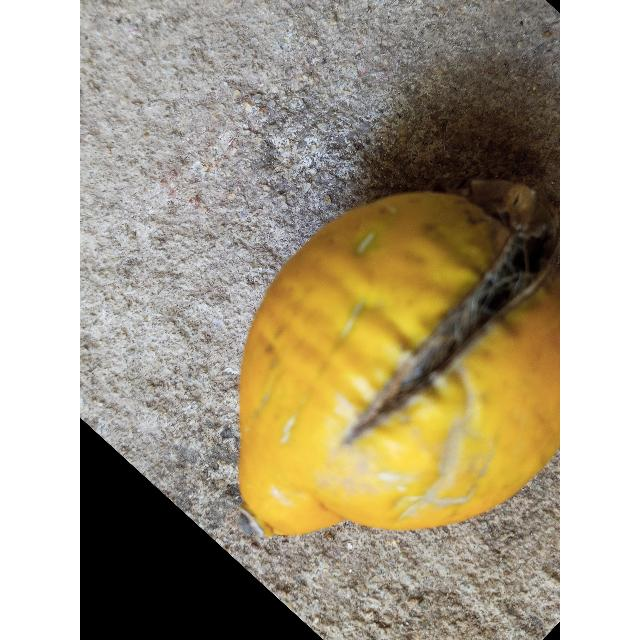damaged: (236, 182, 560, 540)
